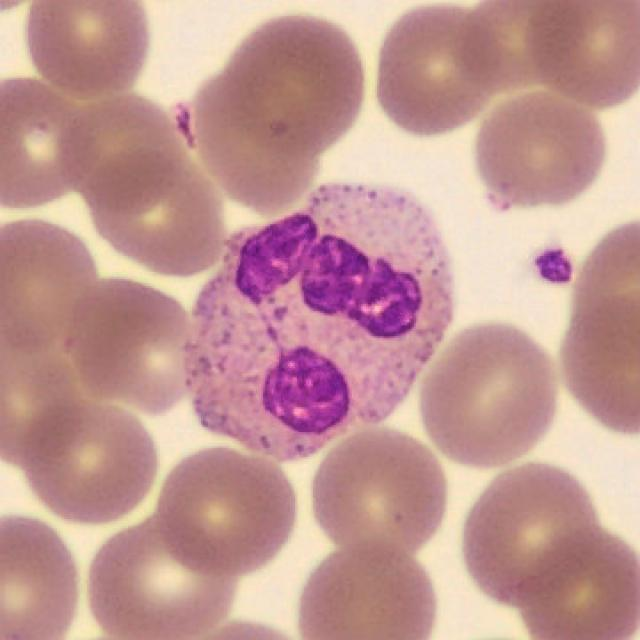Neutrofilo segmentado: (183, 183, 455, 466)
